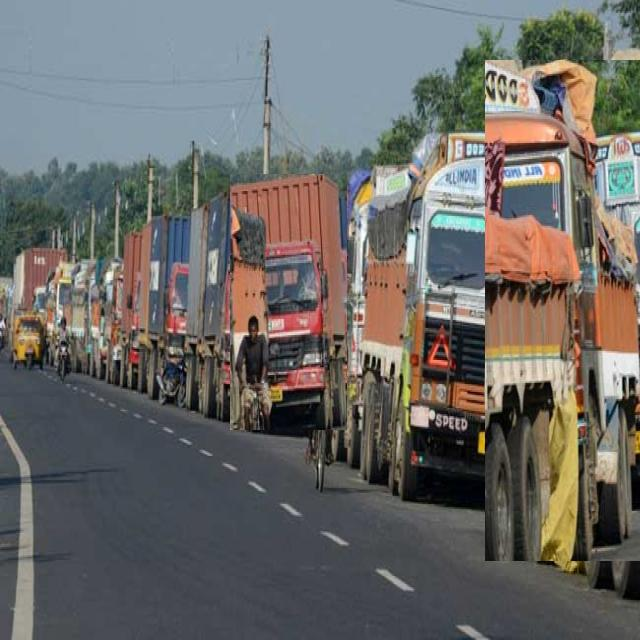truck: (485, 61, 640, 561), (360, 132, 530, 500), (231, 174, 347, 430), (310, 167, 408, 467)
